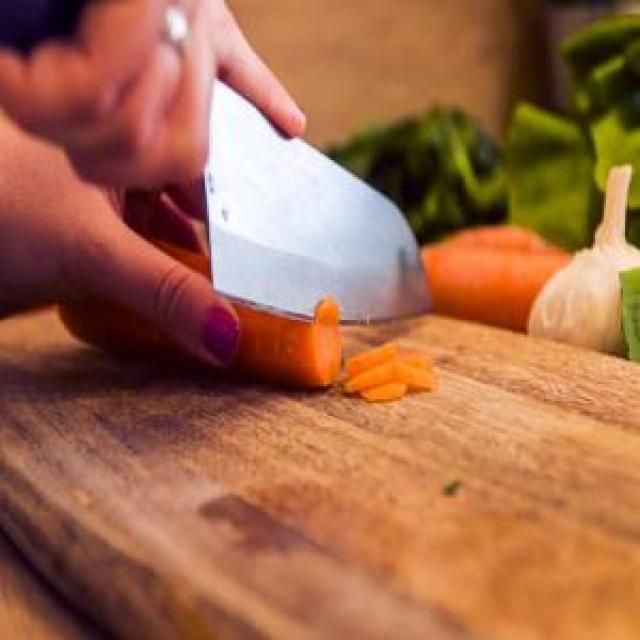knife: (182, 55, 436, 328)
